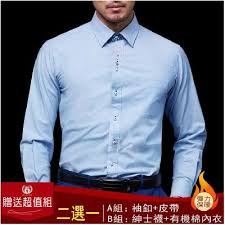F_belt: (60, 170, 160, 191)
F_shirt: (15, 8, 208, 201)
